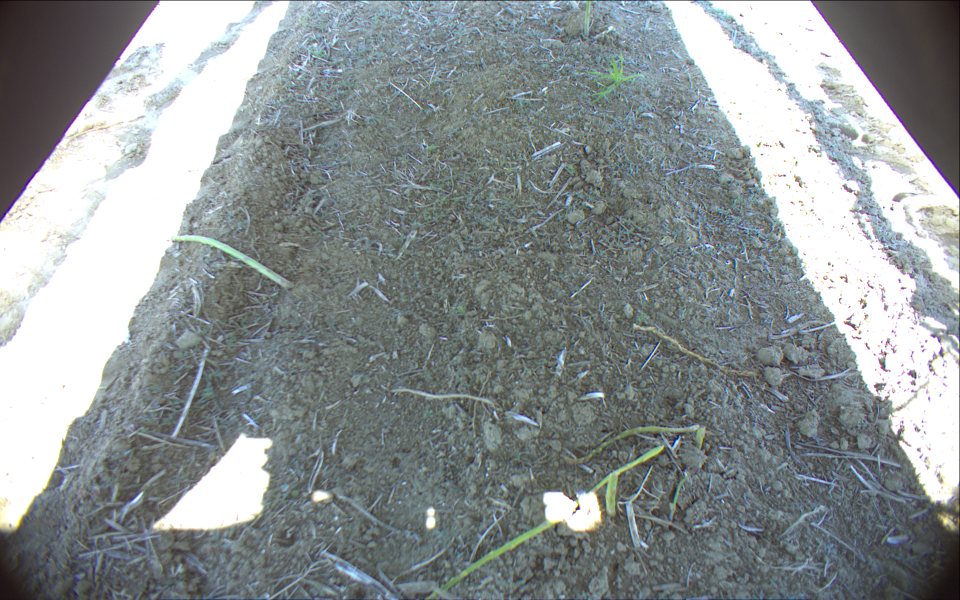aspa: (423, 445, 667, 600), (164, 235, 294, 290), (555, 421, 700, 465), (604, 468, 620, 517), (692, 425, 707, 451), (583, 1, 593, 39)
